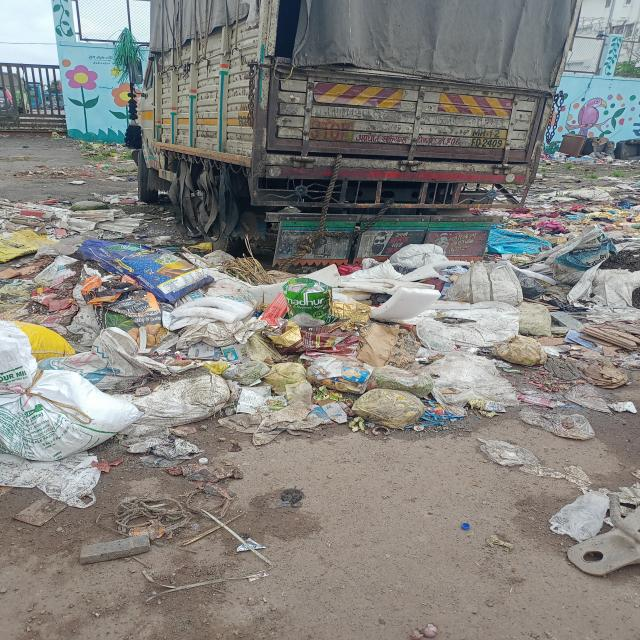garbage: (4, 197, 246, 506), (251, 252, 640, 438), (495, 189, 640, 254), (540, 134, 640, 168)
